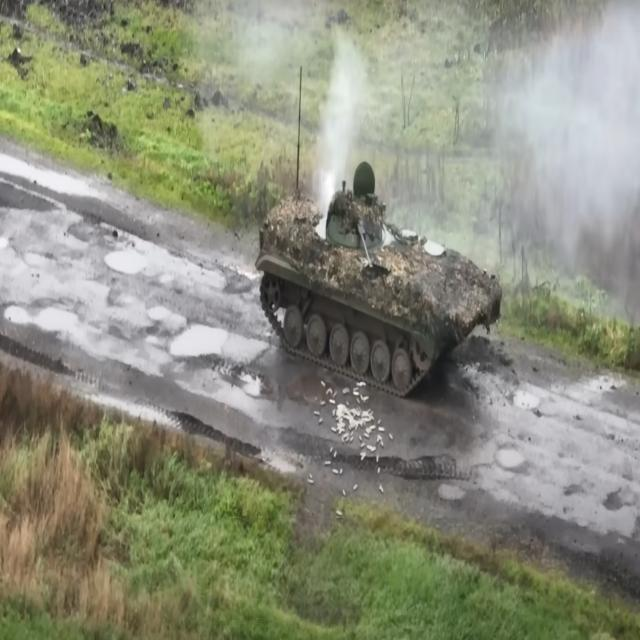AIFV: (254, 160, 506, 404)
